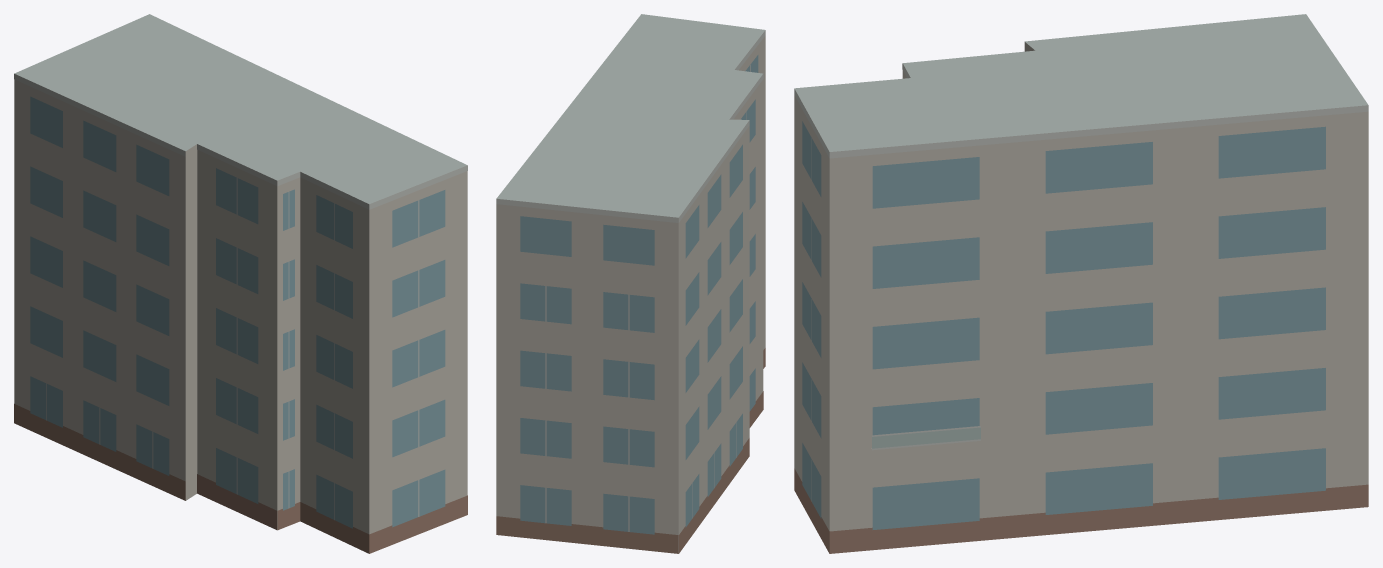
Rendered from survey-upis-32680808.glb.
The picture shows the model from 3 angles, left to right: view 1: azimuth 30°, elevation 25°; view 2: azimuth 150°, elevation 25°; view 3: azimuth 270°, elevation 25°; orthographic projection. The views are drawn at different scales.
Visible parts, largest first — view 1: survey-upis-32680808.tmp; view 2: survey-upis-32680808.tmp; view 3: survey-upis-32680808.tmp.
Part boxes in pixels (bbox=[...]): survey-upis-32680808.tmp: bbox=[14, 14, 467, 553]; survey-upis-32680808.tmp: bbox=[496, 14, 765, 553]; survey-upis-32680808.tmp: bbox=[794, 14, 1368, 553].
Size of the model in its own units: 11.25 by 15.25 by 19.77.
